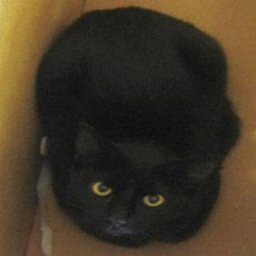cat: (32, 10, 237, 246)
